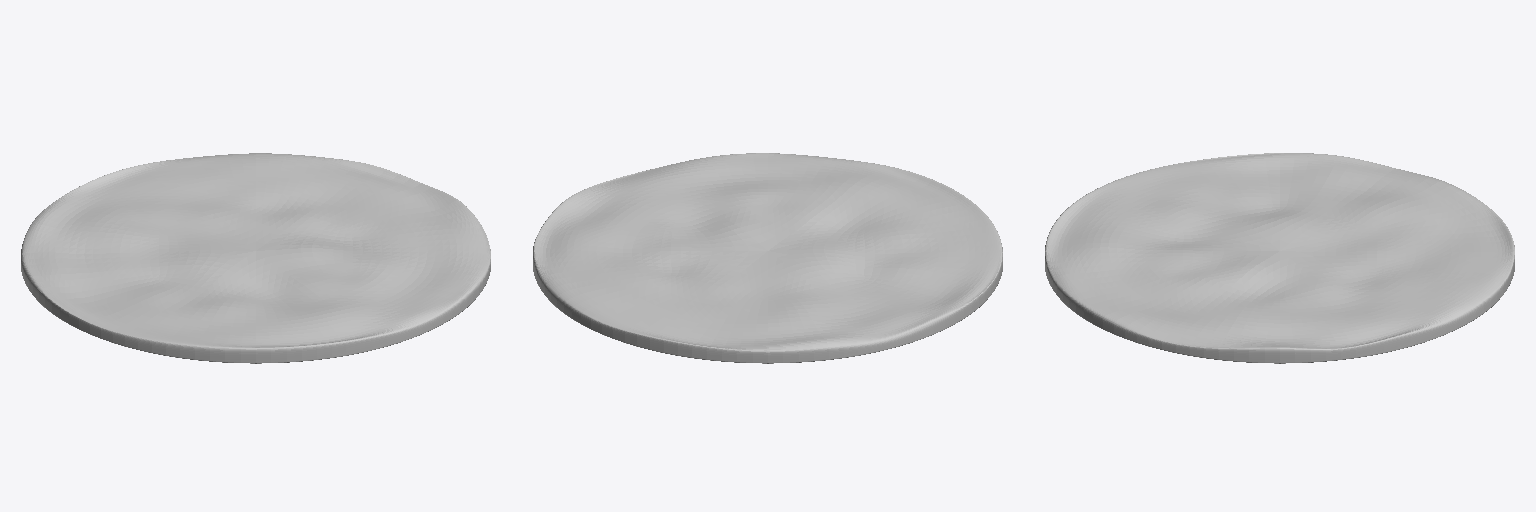
File: grass6.obj
3 views of the same model, side by side, from view 1: azimuth 30°, elevation 25°; view 2: azimuth 150°, elevation 25°; view 3: azimuth 270°, elevation 25° (orthographic).
Size of the model in its own units: 28.68 by 1.15 by 28.68.